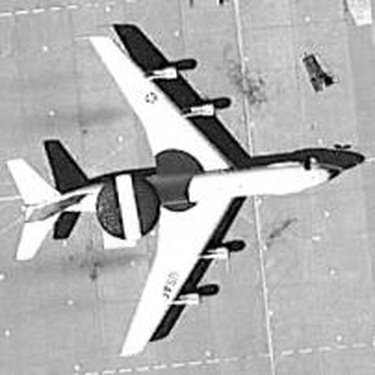airplane: (7, 27, 357, 354)
